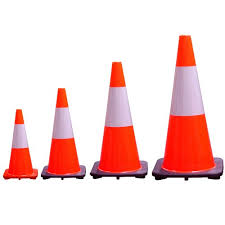cones: (153, 36, 225, 183), (91, 62, 150, 183), (41, 86, 86, 180), (2, 109, 37, 180)
